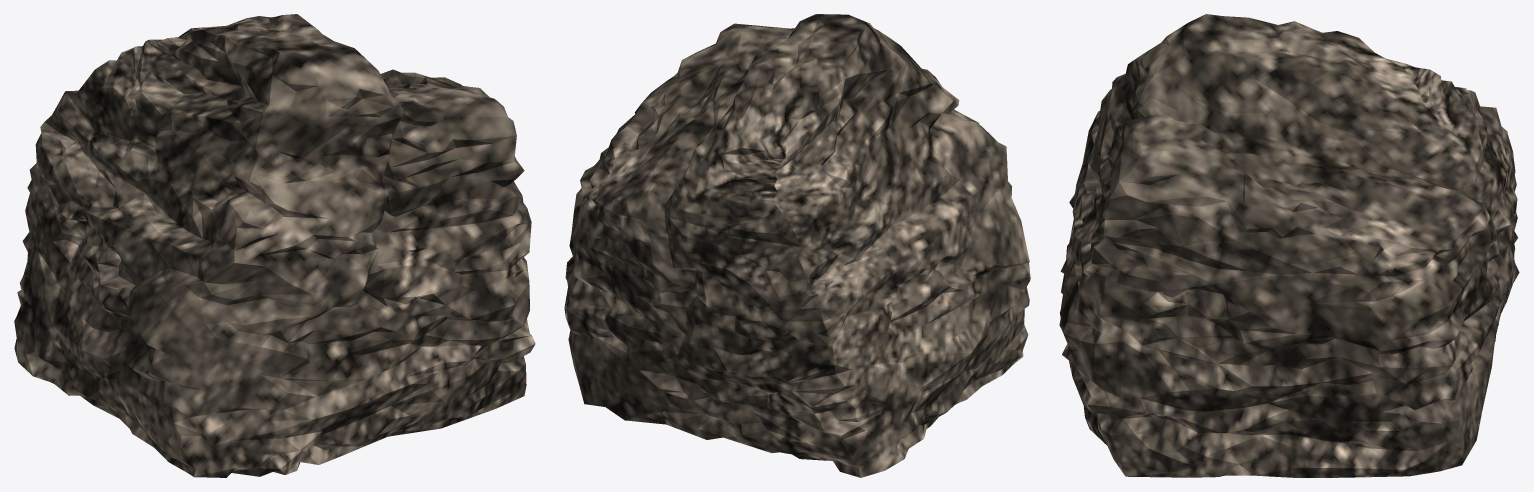
Rendered from SM_ION_CommonRock_05.fbx.
The picture shows the model from 3 angles, left to right: view 1: azimuth 30°, elevation 25°; view 2: azimuth 150°, elevation 25°; view 3: azimuth 270°, elevation 25°; orthographic projection. The views are drawn at different scales.
Parts seen in each view (by area): view 1: SM_ION_CommonRock_05.mo; view 2: SM_ION_CommonRock_05.mo; view 3: SM_ION_CommonRock_05.mo.
Boxes of the visible parts, left/top/right/bottom form: SM_ION_CommonRock_05.mo: left=14, top=14, right=535, bottom=477; SM_ION_CommonRock_05.mo: left=564, top=14, right=1030, bottom=477; SM_ION_CommonRock_05.mo: left=1059, top=14, right=1519, bottom=477.
Size of the model in its own units: 401 by 356 by 408.
